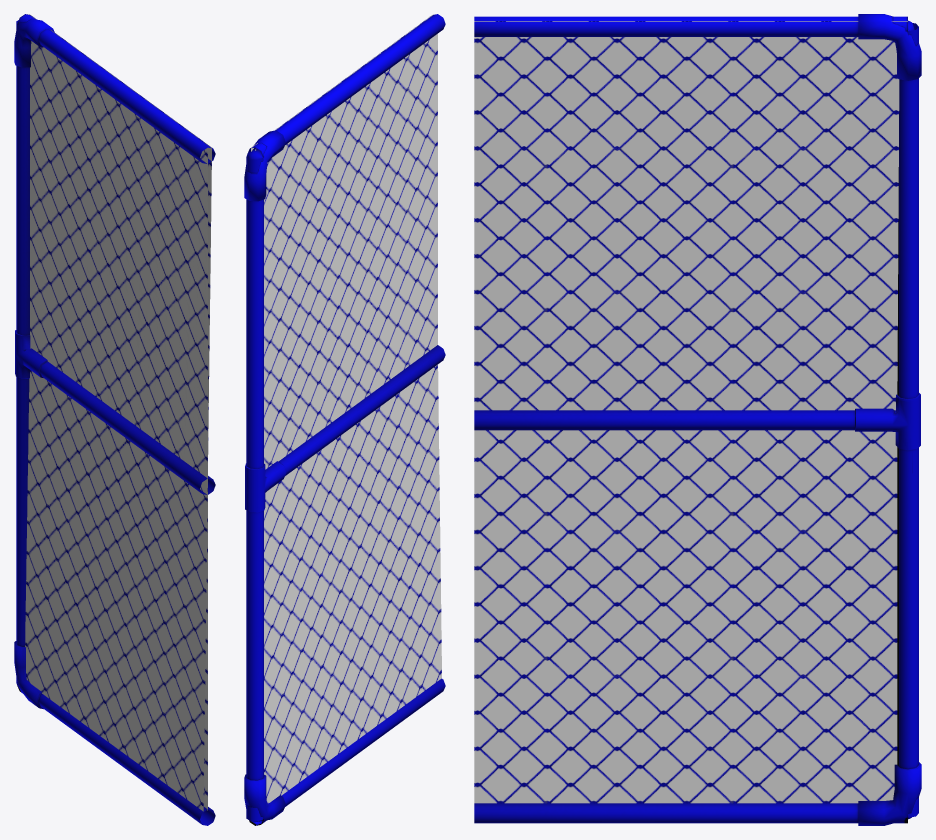
The model's file is fence.fbx.
The picture shows the model from 3 angles, left to right: view 1: azimuth 30°, elevation 25°; view 2: azimuth 150°, elevation 25°; view 3: azimuth 270°, elevation 25°; orthographic projection. The views are drawn at different scales.
Visible parts, largest first — view 1: fencewire; view 2: fencewire; view 3: fencewire.
Part boxes in pixels (<box>): fencewire: <box>14,14,215,825</box>; fencewire: <box>244,14,445,825</box>; fencewire: <box>474,14,921,825</box>.
Size of the model in its own units: 24.92 by 825 by 413.
